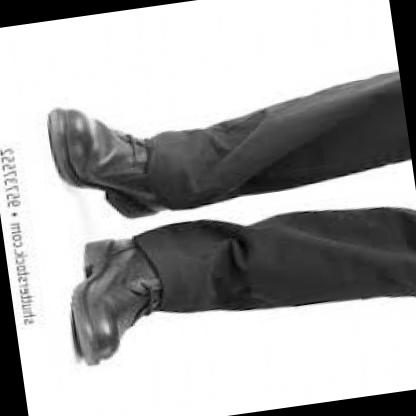ankle: (154, 195, 165, 202), (146, 250, 156, 255)
heel: (113, 245, 119, 250), (137, 211, 143, 215)
left_foot: (47, 93, 196, 229)
pinky: (111, 344, 116, 349), (80, 115, 87, 118)
right_foot: (65, 231, 188, 371)
toe: (75, 151, 84, 158), (104, 321, 110, 326)
